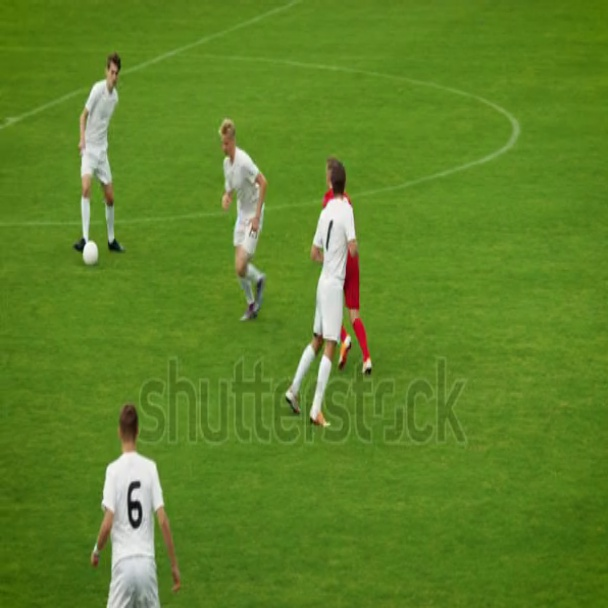ball: (83, 238, 101, 268)
